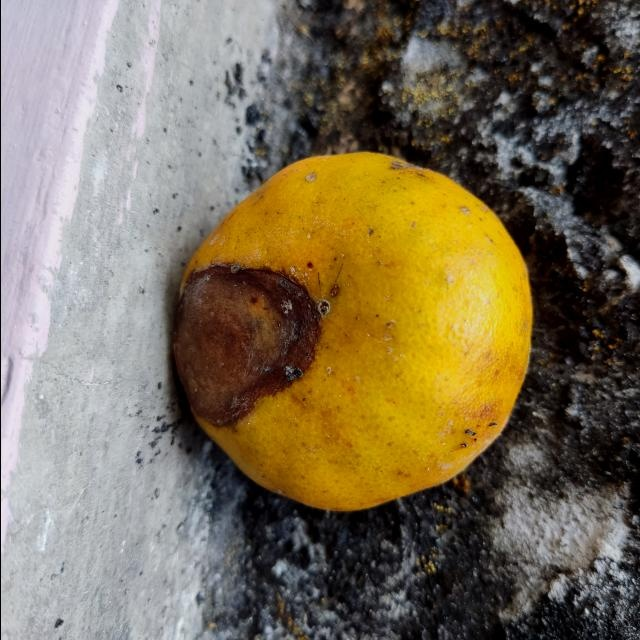agrume: (170, 151, 536, 513)
